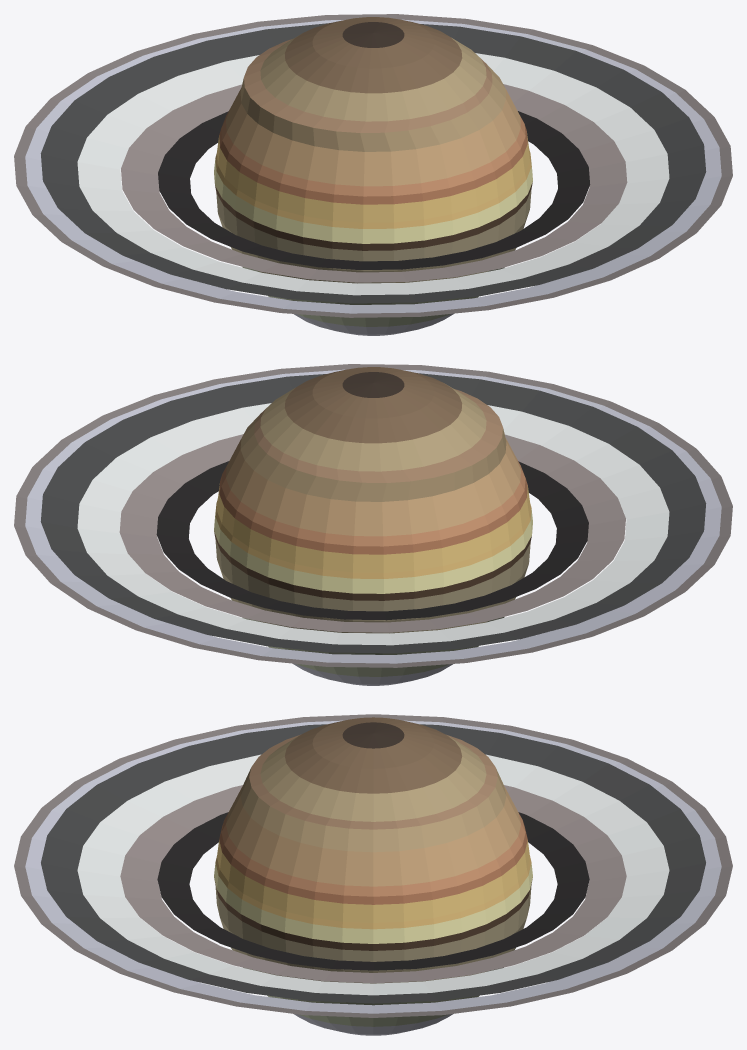
The model's file is Saturno.fbx.
3 views of the same model, one above another, from view 1: azimuth 30°, elevation 25°; view 2: azimuth 150°, elevation 25°; view 3: azimuth 270°, elevation 25° (orthographic).
Visible parts, largest first — view 1: Sphere; view 2: Sphere; view 3: Sphere.
Boxes of the visible parts, x1=… form: Sphere: x1=14, y1=14, x2=732, y2=335; Sphere: x1=14, y1=364, x2=732, y2=685; Sphere: x1=14, y1=714, x2=732, y2=1035.
Size of the model in its own units: 3302 by 1453 by 3302.
